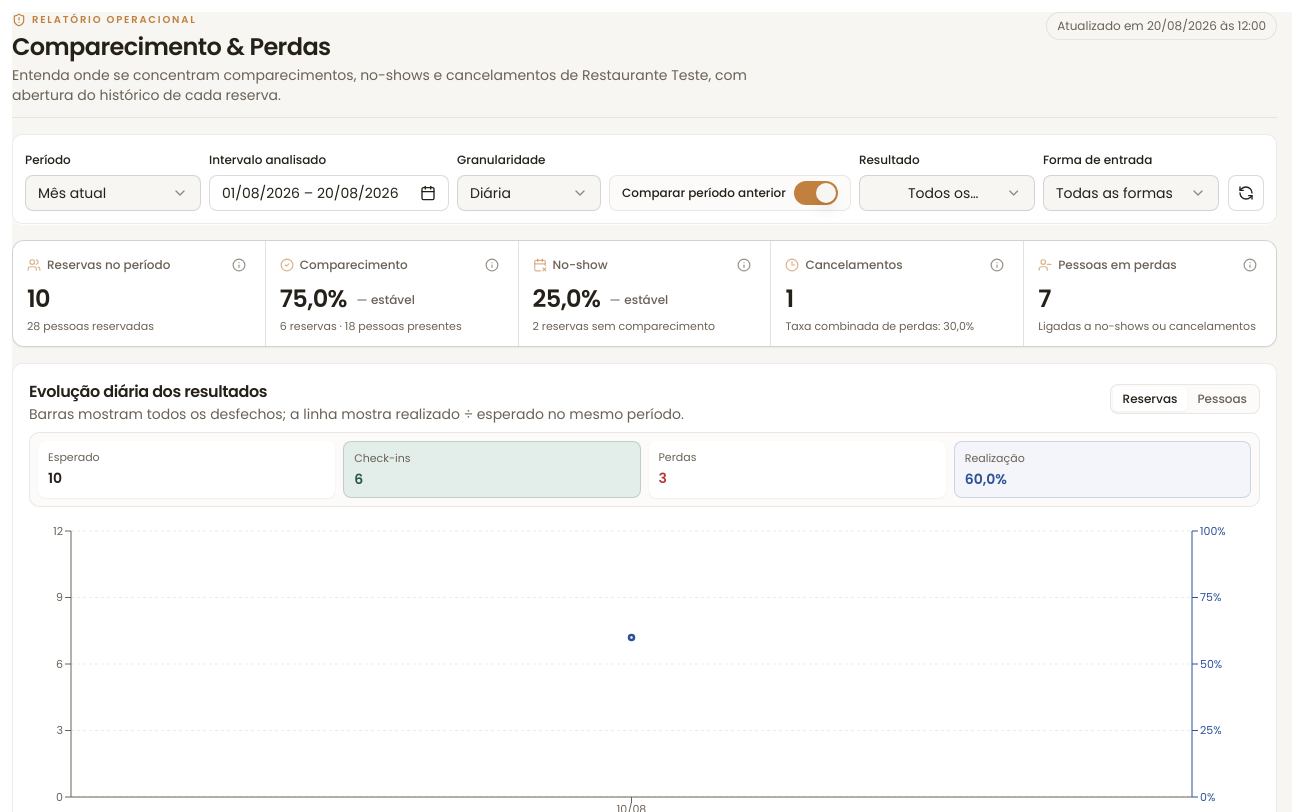
it: AttendanceLossesReport › summarizes expected, realized, losses and realization for the selected unit
Check: the text "Esperado" is shown, box [48, 449, 100, 465]
Check: the text "10" in the row of "60,0%" is shown, box [48, 468, 62, 488]
Click the button "Pessoas" at (1222, 399), box [1187, 387, 1257, 411]
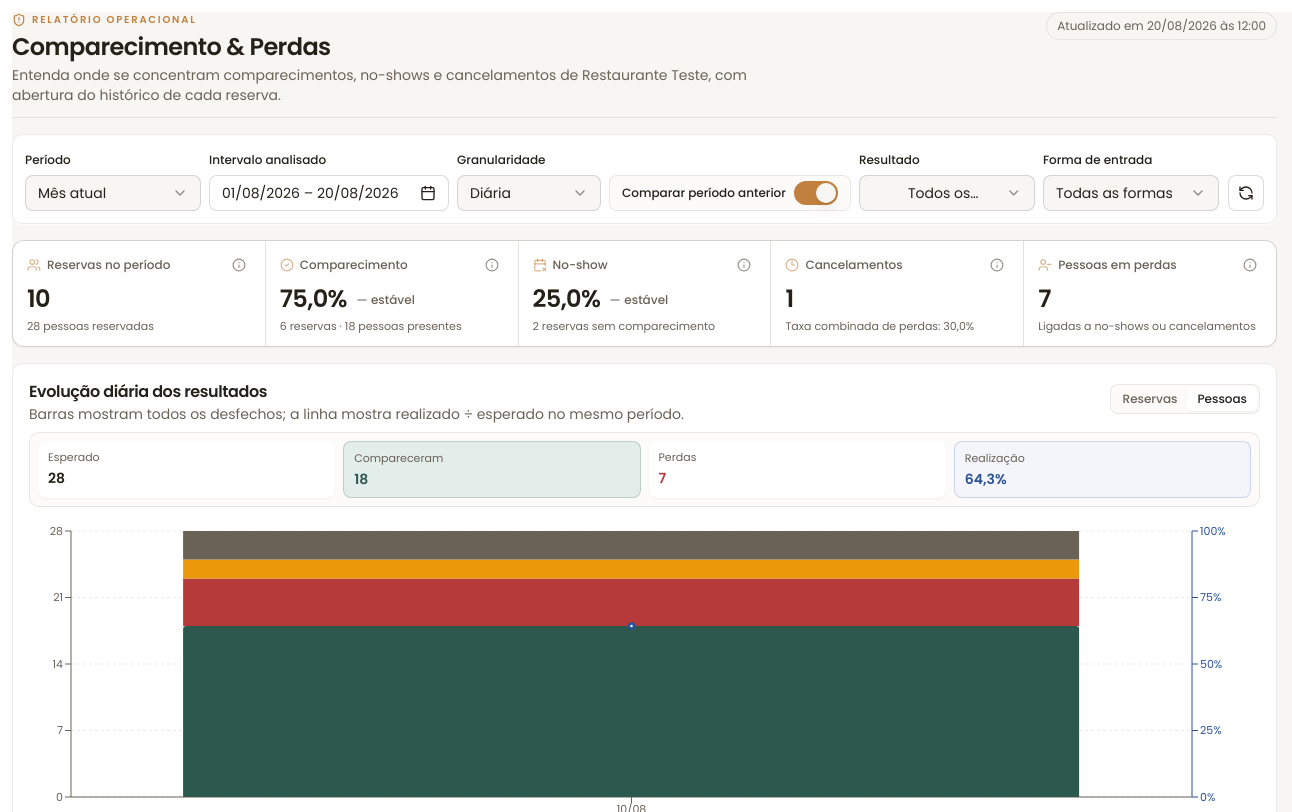
Check: the text "28" is shown, box [48, 468, 65, 488]
Check: the text "Compareceram" is shown, box [354, 450, 443, 466]
Check: the text "18" is shown, box [354, 469, 368, 489]
